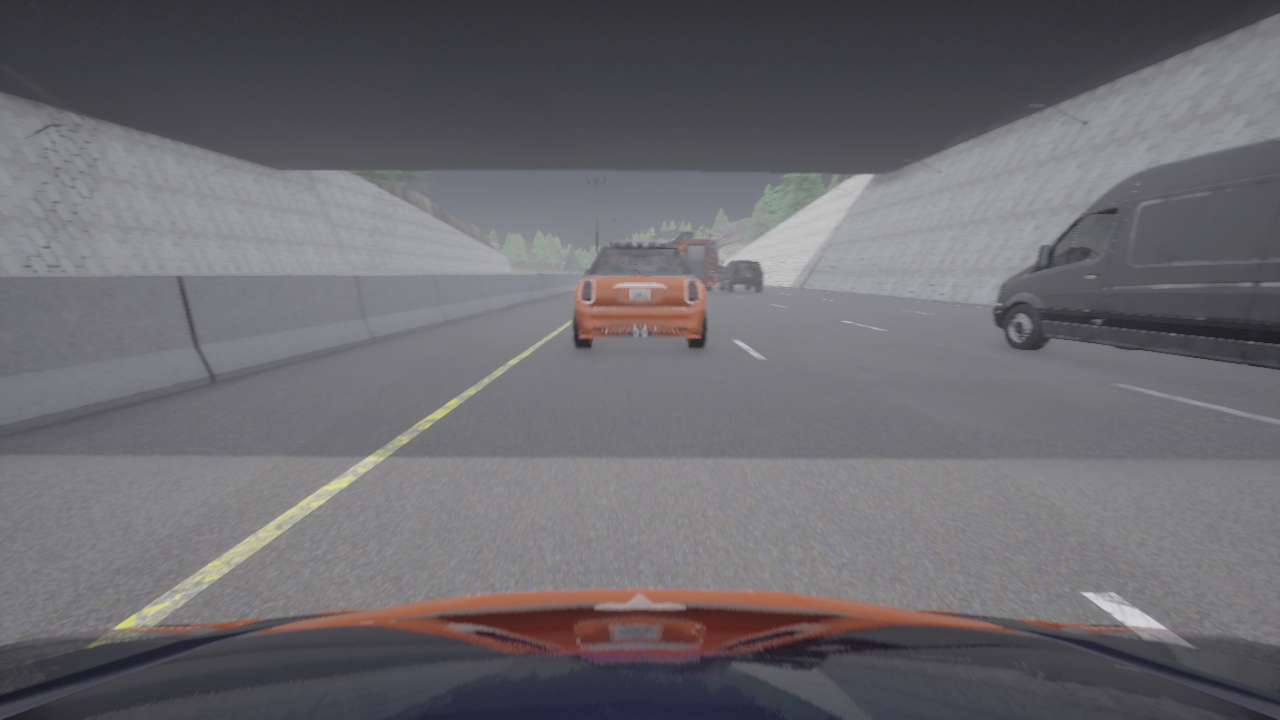cyclist: (0, 588, 1279, 719), (992, 135, 1279, 370), (572, 238, 706, 348), (670, 232, 717, 291), (720, 261, 762, 291), (610, 240, 669, 245), (717, 268, 725, 282)
